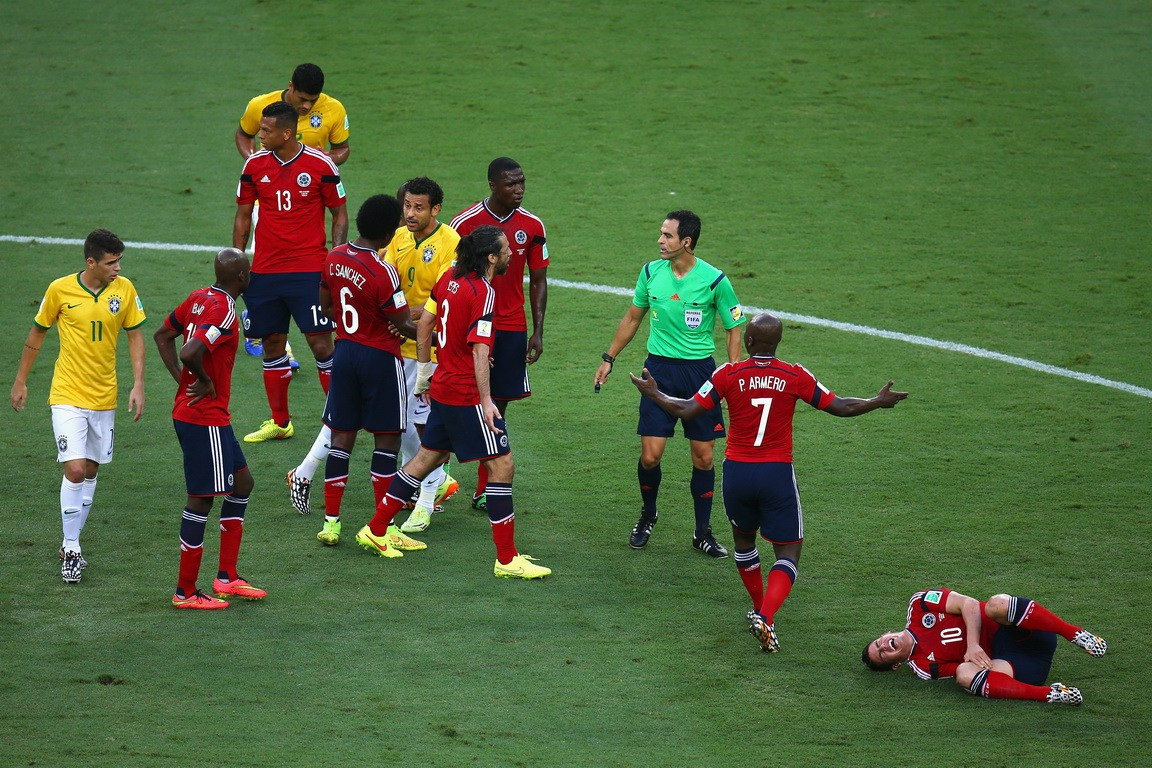10+: (1, 31, 1152, 768)
down: (814, 560, 1122, 736)
